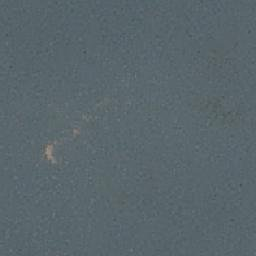debris: (42, 140, 60, 168)
